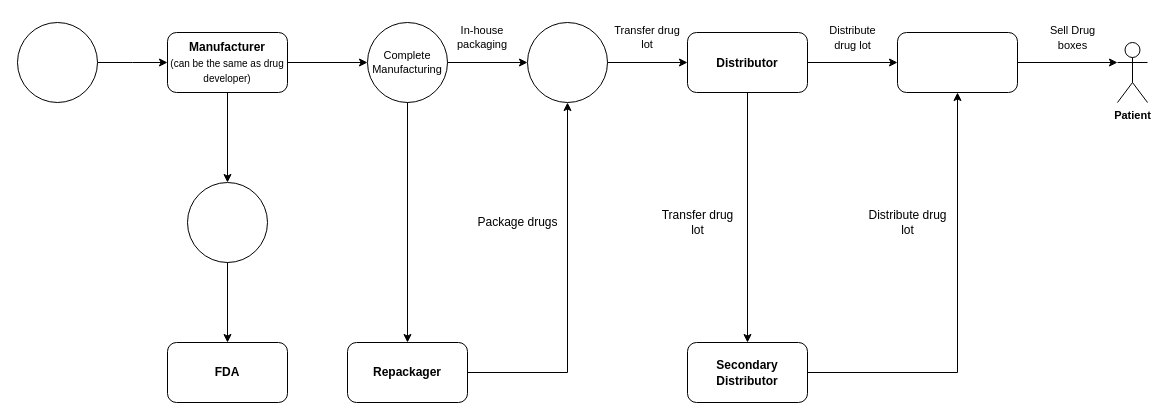
This 1168x420 diagram has some shape labels left out. Each missing label, with the centre of its shape:
Drugs packaged into Lots: pixel 567 62
Initiate Manufacturing: pixel 57 62
List the manufacturing site with the FDA: pixel 227 222
Pharmacy: pixel 957 62
